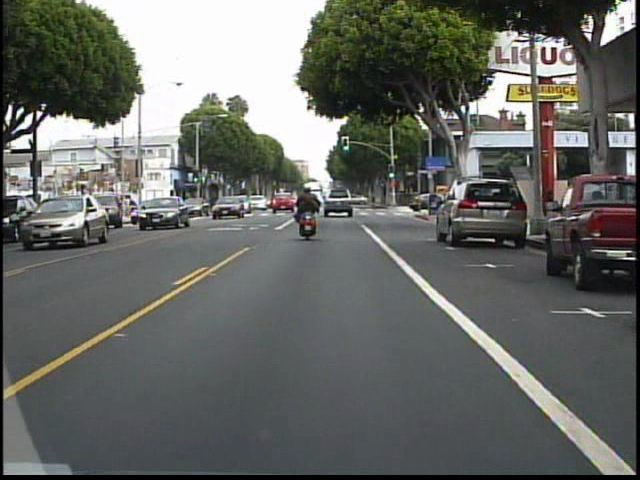person: (292, 183, 325, 240)
